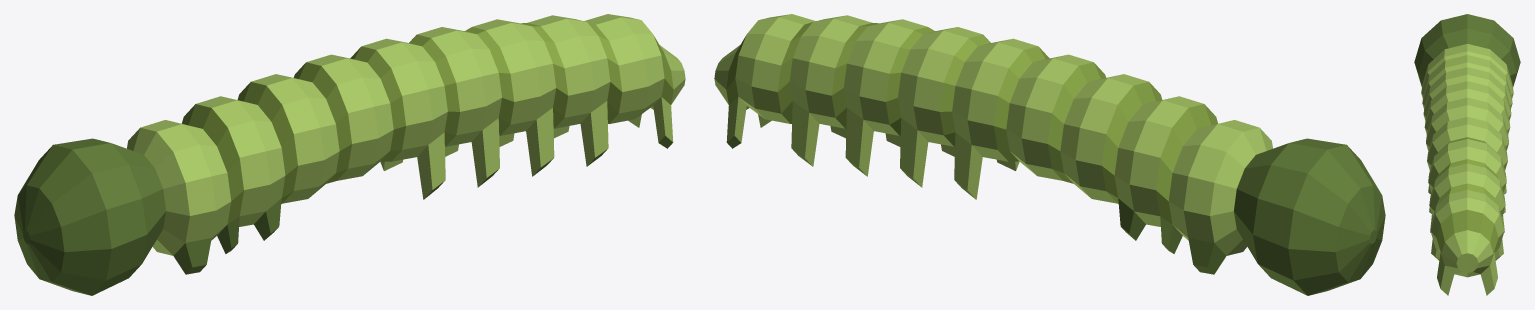
File: NEW_RECOVERY_032_LOD1.glb
The picture shows the model from 3 angles, left to right: view 1: azimuth 30°, elevation 25°; view 2: azimuth 150°, elevation 25°; view 3: azimuth 270°, elevation 25°; orthographic projection. The views are drawn at different scales.
Visible parts, largest first — view 1: Caterpillar; view 2: Caterpillar; view 3: Caterpillar.
Part boxes in pixels (left/top/right/bottom): Caterpillar: left=14, top=14, right=685, bottom=295; Caterpillar: left=714, top=14, right=1385, bottom=295; Caterpillar: left=1414, top=14, right=1520, bottom=295.
Size of the model in its own units: 2.55 by 0.6306 by 0.53.
